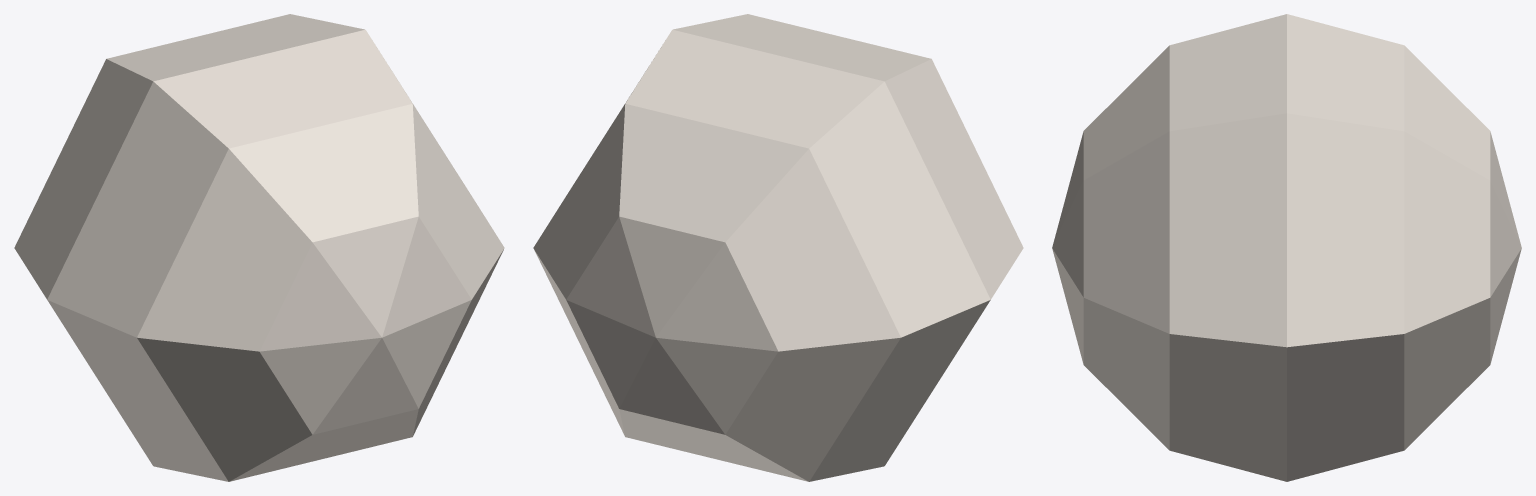
Rendered from Salt Ammo.fbx.
The picture shows the model from 3 angles, left to right: view 1: azimuth 30°, elevation 25°; view 2: azimuth 150°, elevation 25°; view 3: azimuth 270°, elevation 25°; orthographic projection. The views are drawn at different scales.
Parts seen in each view (by area): view 1: pSphere20; view 2: pSphere20; view 3: pSphere20.
Part boxes in pixels (x1,y1,x2,y2): pSphere20: [14, 14, 504, 481]; pSphere20: [533, 14, 1023, 481]; pSphere20: [1052, 14, 1521, 481].
Size of the model in its own units: 37.1 by 32.13 by 37.1.
Materials: 1 (1 with a texture image).
